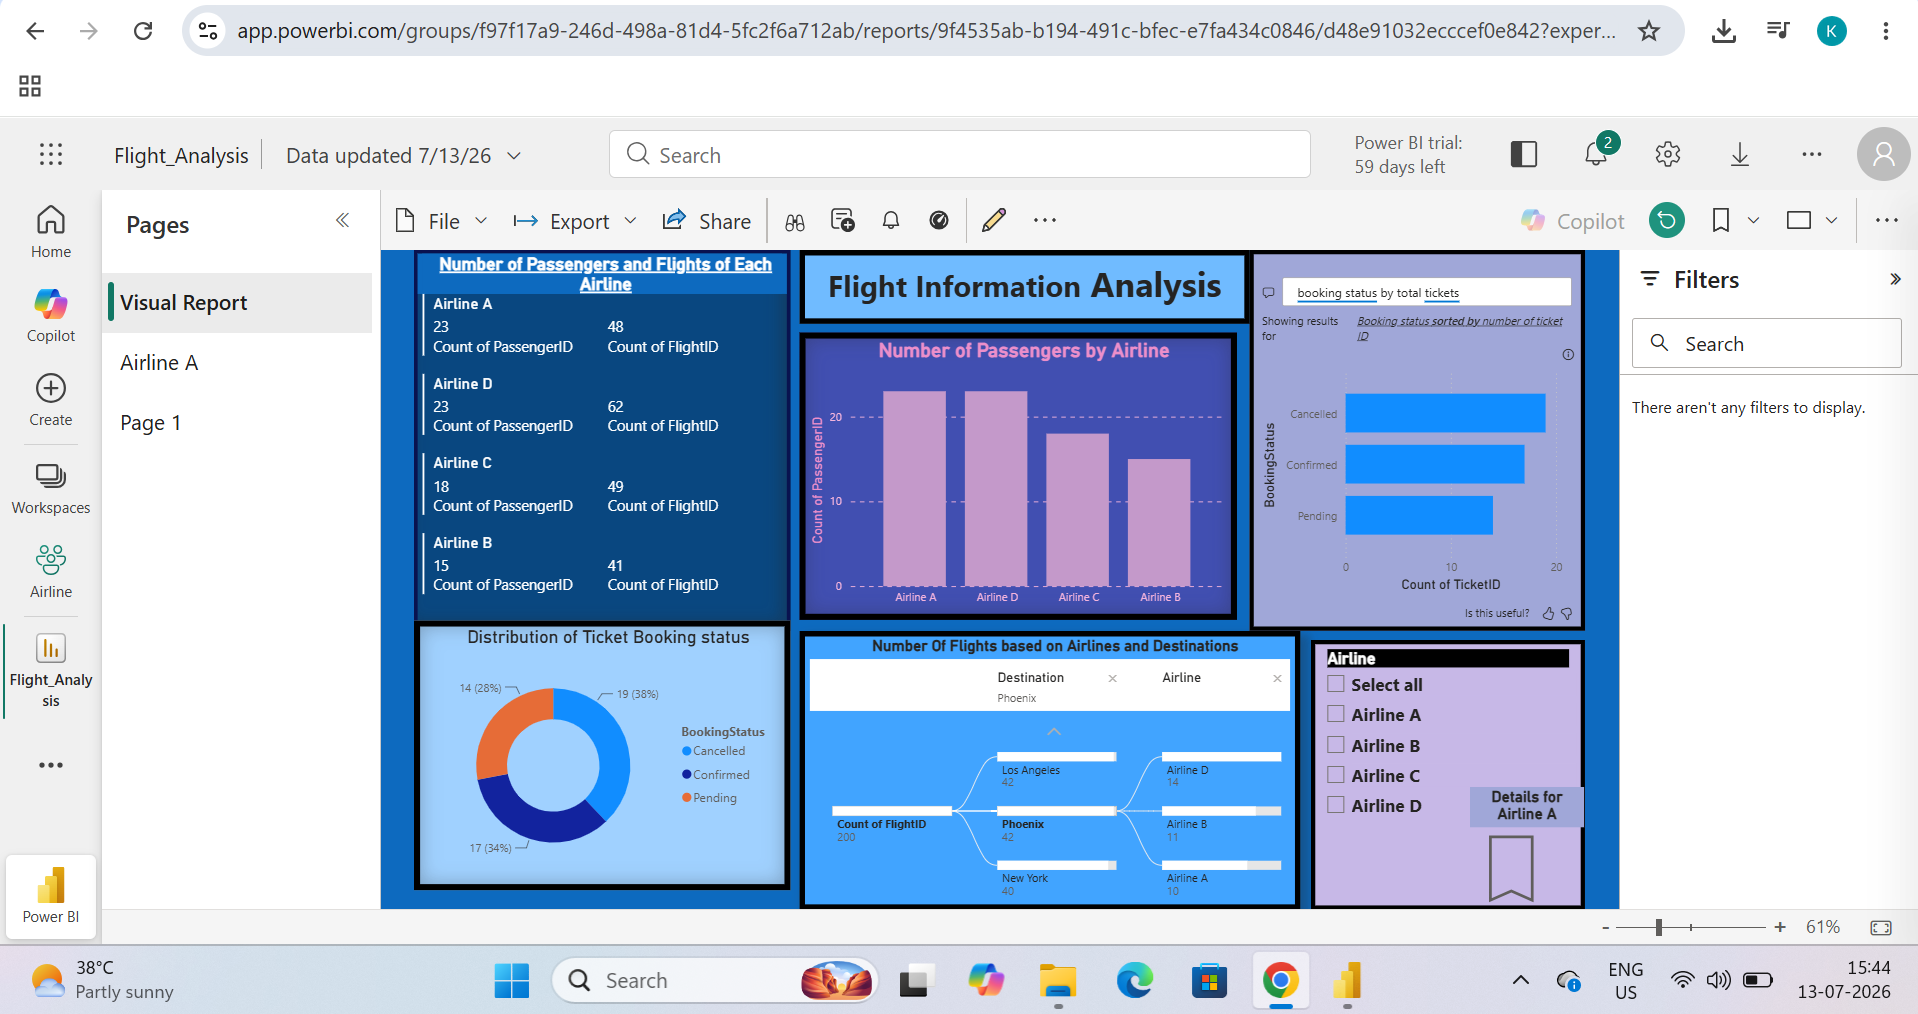

The page's visual inventory and layout, read from the dashboard file:
{"tool":"powerbi","page":{"name":"Visual Report","canvas":[1280,720],"ordinal":0},"visuals":[{"type":"multiRowCard","title":"Number of Passengers and Flights of Each Airline","fields":{"Values":["CountNonNull(passenger_information.PassengerID)","flight_information.FlightID","flight_information.Airline"]},"box":[0,0,411.3,416.1],"z":0},{"type":"columnChart","title":"Number of Passengers by Airline","fields":{"Y":["CountNonNull(passenger_information.PassengerID)"],"Category":["flight_information.Airline"]},"box":[421,90.7,477.7,314.1],"z":1000},{"type":"donutChart","title":"Distribution of Ticket Booking status","fields":{"Category":["ticket_information.BookingStatus"],"Y":["CountNonNull(ticket_information.BookingStatus)"]},"box":[0,425.9,411.3,294.7],"z":2000},{"type":"decompositionTreeVisual","title":"Number Of Flights based on Airlines and Destinations","fields":{"Analyze":["CountNonNull(flight_information.FlightID)"],"ExplainBy":["flight_information.Destination","flight_information.Airline"]},"box":[421,416.1,547.3,304.4],"z":3000},{"type":"slicer","fields":{"Values":["flight_information.Airline"]},"box":[979.6,425.9,299.6,294.7],"z":4000},{"type":"textbox","box":[421,0,492.2,81],"z":5000},{"type":"actionButton","title":"Details for Airline A","box":[1154.5,586.2,124.7,134.4],"z":6000},{"type":"columnChart","title":"Number of Tickets by BookingStatus","fields":{"Y":["CountNonNull(ticket_information.TicketID)"],"Category":["ticket_information.BookingStatus"]},"box":[913.2,0,367.6,404.8],"z":7000}]}

Visuals, with their boxes on the page's 1280x720 design canvas (x1, y1, x2, y2). These are canvas units, not pixel positions in the 1918x1014 screenshot, which may show the page scaled, cropped or inside an application window:
"Number of Passengers and Flights of Each Airline" multiRowCard: <bbox>0, 0, 411, 416</bbox>
"Number of Passengers by Airline" columnChart: <bbox>421, 91, 899, 405</bbox>
"Distribution of Ticket Booking status" donutChart: <bbox>0, 426, 411, 721</bbox>
"Number Of Flights based on Airlines and Destinations" decompositionTreeVisual: <bbox>421, 416, 968, 720</bbox>
slicer - flight_information.Airline: <bbox>980, 426, 1279, 721</bbox>
textbox: <bbox>421, 0, 913, 81</bbox>
"Details for Airline A" actionButton: <bbox>1154, 586, 1279, 721</bbox>
"Number of Tickets by BookingStatus" columnChart: <bbox>913, 0, 1281, 405</bbox>
